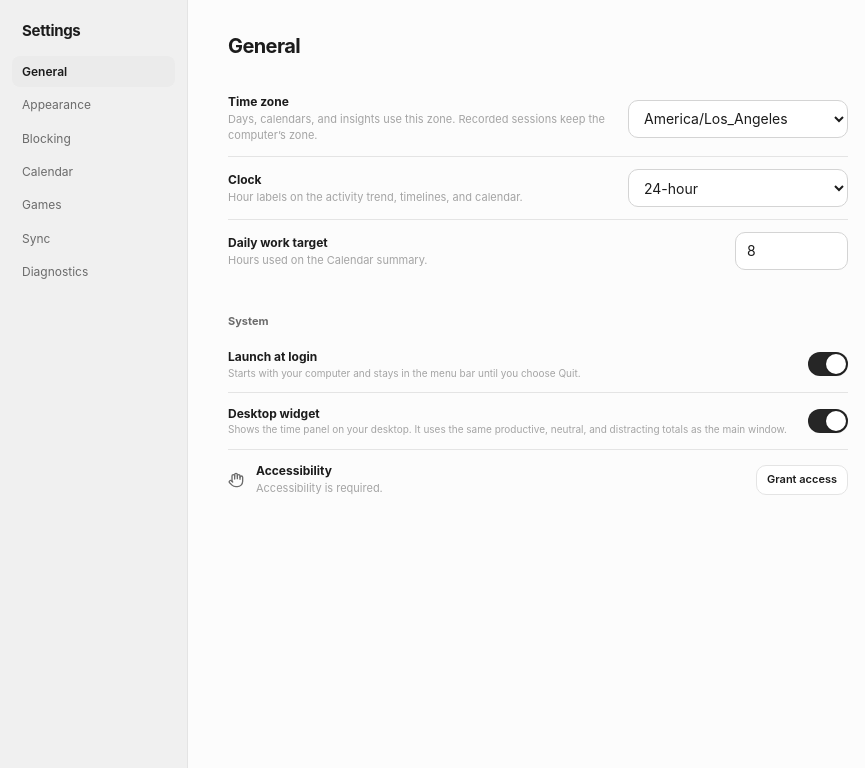
Test case: Settings time zone › shows one pane at a time
The image size is (865, 768).
Expected: the heading "General" is shown, [228,34,300,58]
Click the button with test id "settings-nav-diagnostics". click: (94, 272)
box: [12,256,175,288]
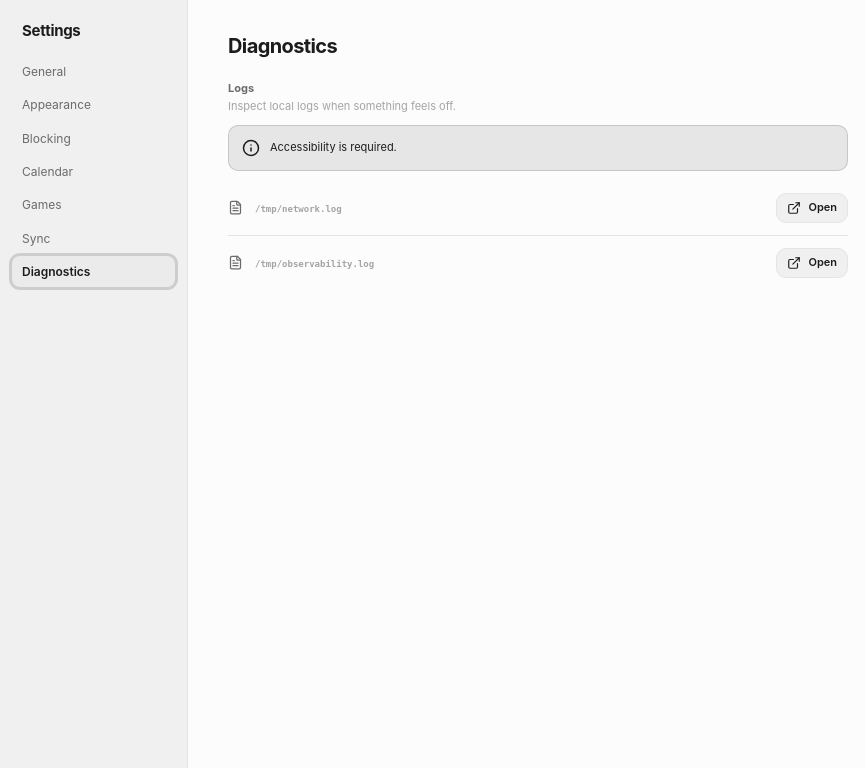
Expected: the heading "Diagnostics" is shown, [228,34,337,58]
Expected: the dropdown with test id "settings-time-zone" is gone
